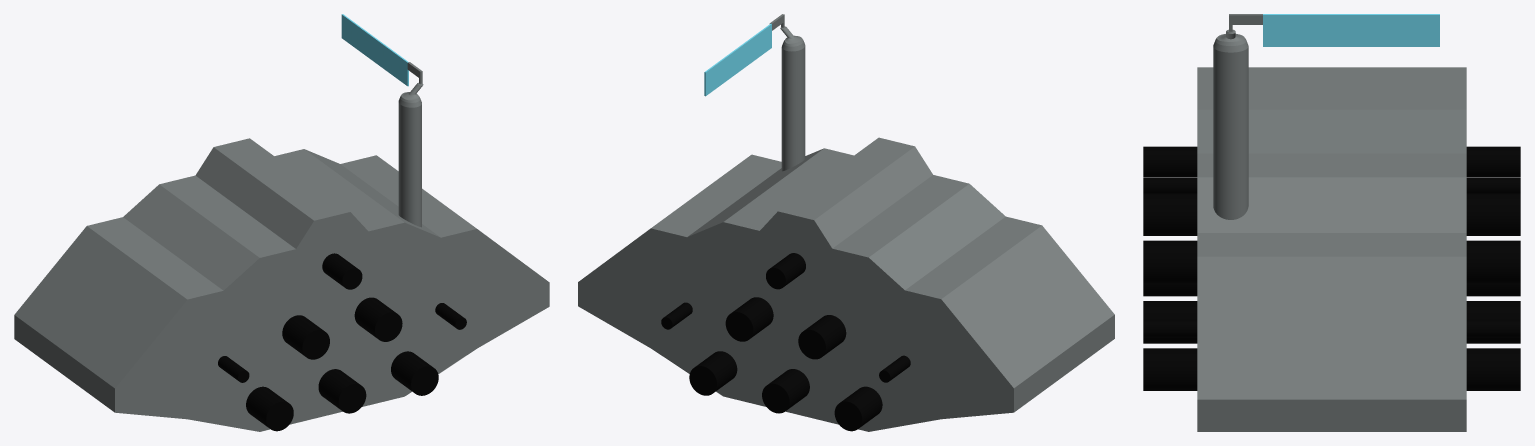
Rendered from roverNoTreads.glb.
3 views of the same model, side by side, from view 1: azimuth 30°, elevation 25°; view 2: azimuth 150°, elevation 25°; view 3: azimuth 270°, elevation 25° (orthographic). The views are drawn at different scales.
Parts seen in each view (by area): view 1: Part 9; view 2: Part 9, Part 2, Part 8, Part 6, Part 4, Part 5, Part 1; view 3: Part 9, Part 2, Part 4, Part 8, Part 1, Part 5, Part 3, Part 7, Part 6.
Part boxes in pixels (x1=…): Part 9: x1=14, y1=14, x2=549, y2=431; Part 9: x1=578, y1=14, x2=1114, y2=431; Part 2: x1=725, y1=297, x2=773, y2=341; Part 8: x1=798, y1=315, x2=846, y2=359; Part 6: x1=834, y1=386, x2=882, y2=431; Part 4: x1=689, y1=351, x2=737, y2=395; Part 5: x1=762, y1=369, x2=809, y2=413; Part 1: x1=766, y1=253, x2=805, y2=289; Part 9: x1=1143, y1=14, x2=1466, y2=431; Part 2: x1=1466, y1=240, x2=1520, y2=283; Part 4: x1=1466, y1=348, x2=1520, y2=390; Part 8: x1=1466, y1=193, x2=1520, y2=235; Part 1: x1=1466, y1=146, x2=1520, y2=177; Part 5: x1=1466, y1=301, x2=1520, y2=343; Part 3: x1=1466, y1=319, x2=1520, y2=337; Part 7: x1=1466, y1=177, x2=1520, y2=193; Part 6: x1=1466, y1=283, x2=1520, y2=296.
Size of the model in its own units: 3.8 by 2.58 by 2.13.
Materials: 3 (3 with a texture image).
